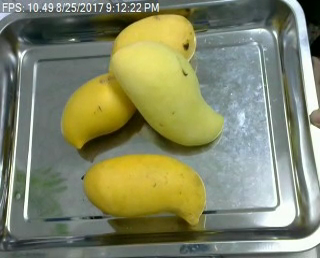Mango: (109, 42, 224, 147), (77, 154, 209, 228), (58, 65, 149, 150), (109, 12, 198, 84)
